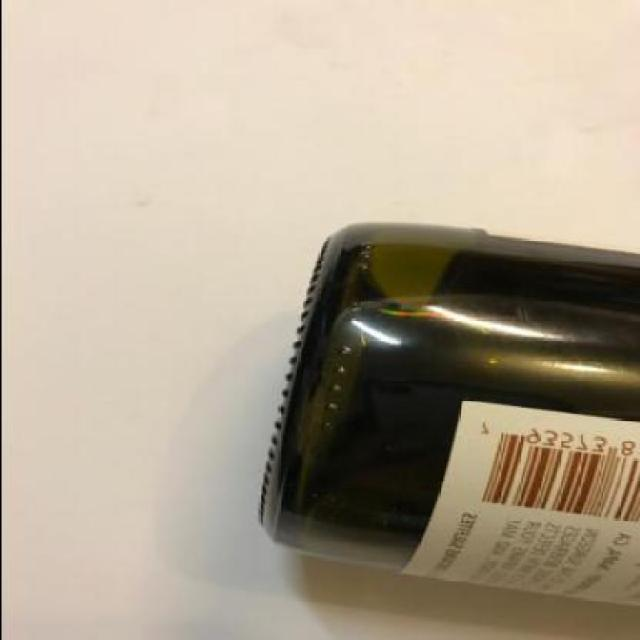glass: (254, 223, 638, 608)
